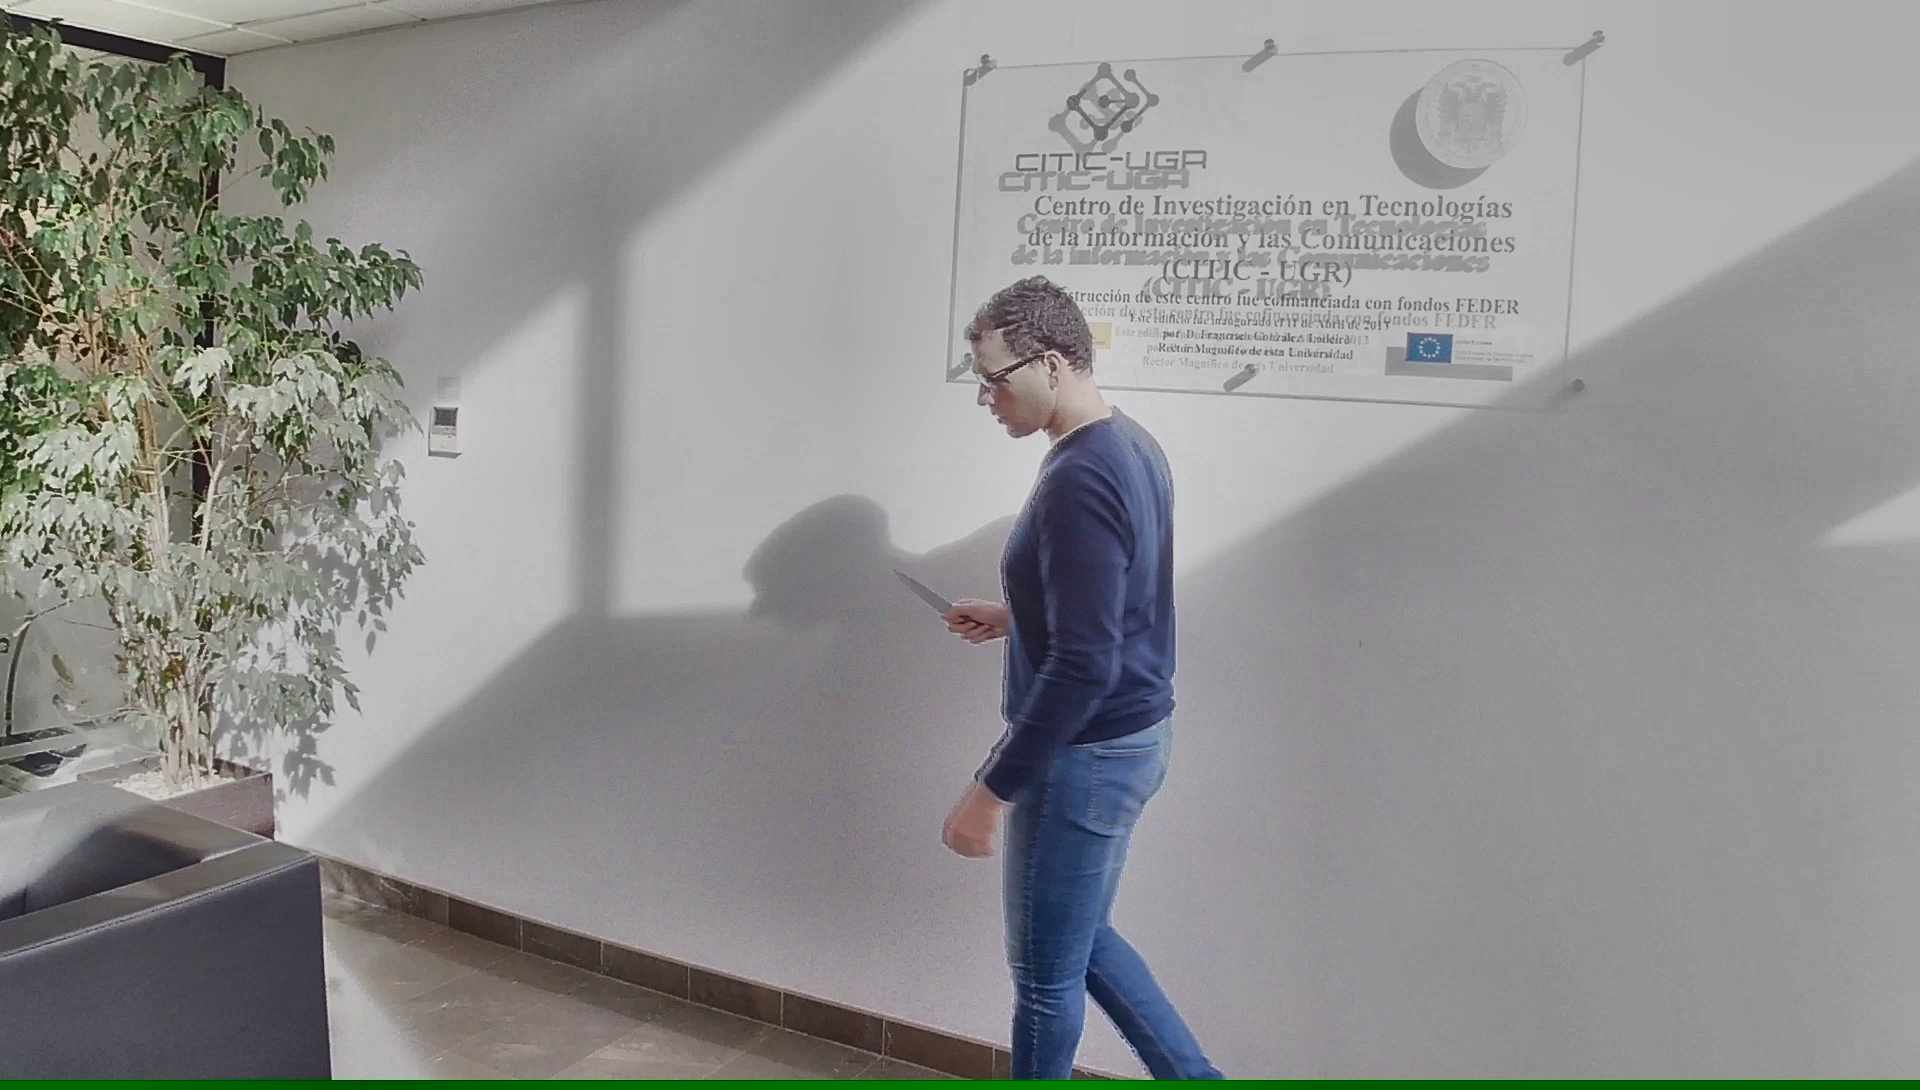knife: (887, 561, 985, 637)
